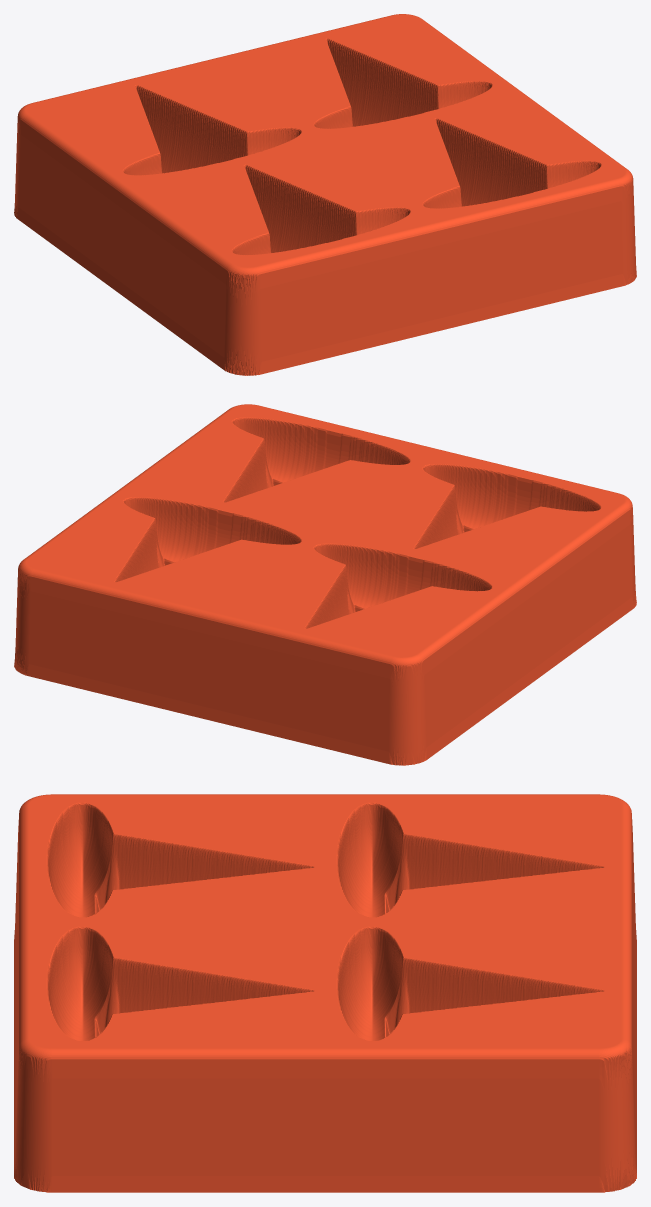
The model's file is mold.glb.
The picture shows the model from 3 angles, top to bottom: view 1: azimuth 30°, elevation 25°; view 2: azimuth 150°, elevation 25°; view 3: azimuth 270°, elevation 25°; orthographic projection. The views are drawn at different scales.
Visible parts, largest first — view 1: geometry_0; view 2: geometry_0; view 3: geometry_0.
Boxes of the visible parts, left/top/right/bottom form: geometry_0: left=14, top=14, right=636, bottom=375; geometry_0: left=14, top=404, right=636, bottom=765; geometry_0: left=14, top=794, right=636, bottom=1192.
Bounding box in the file's own units: 0.1493 × 0.036 × 0.1478.
